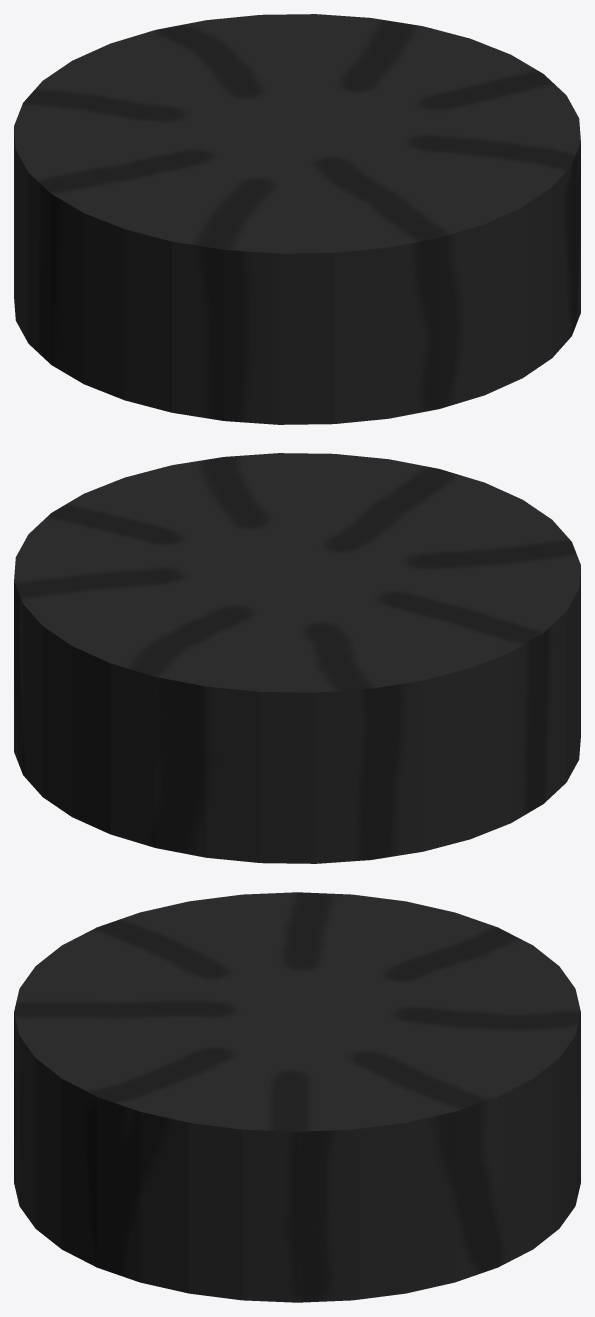
File: wheel_simplified.glb
The picture shows the model from 3 angles, top to bottom: view 1: azimuth 30°, elevation 25°; view 2: azimuth 150°, elevation 25°; view 3: azimuth 270°, elevation 25°; orthographic projection.
Visible parts, largest first — view 1: Cylinder; view 2: Cylinder; view 3: Cylinder.
Boxes of the visible parts, bbox=[...] form: Cylinder: bbox=[14, 14, 580, 424]; Cylinder: bbox=[14, 453, 580, 863]; Cylinder: bbox=[14, 892, 580, 1302].
Bounding box in the file's own units: 0.364 × 0.121 × 0.364.
1 material, 1 textured.
